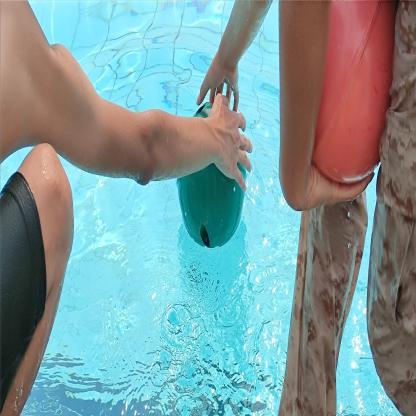green_buoy: (176, 98, 248, 250)
red_buoy: (312, 1, 396, 186)
